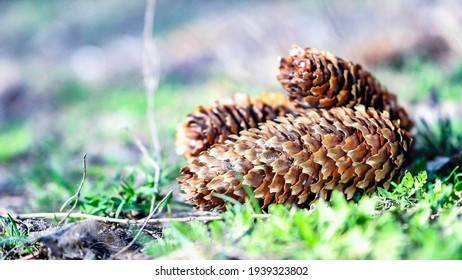Pc: (180, 108, 417, 210), (275, 47, 414, 126), (177, 98, 297, 146)
